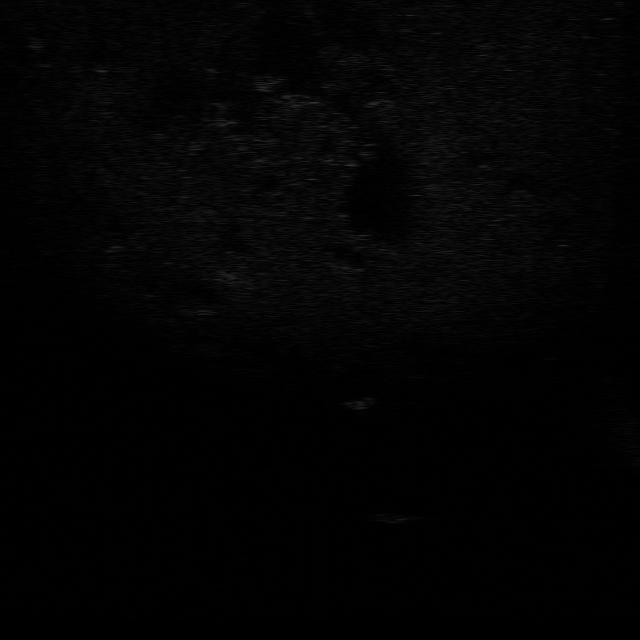cube: (372, 510, 427, 528)
square cage: (340, 392, 380, 412)
